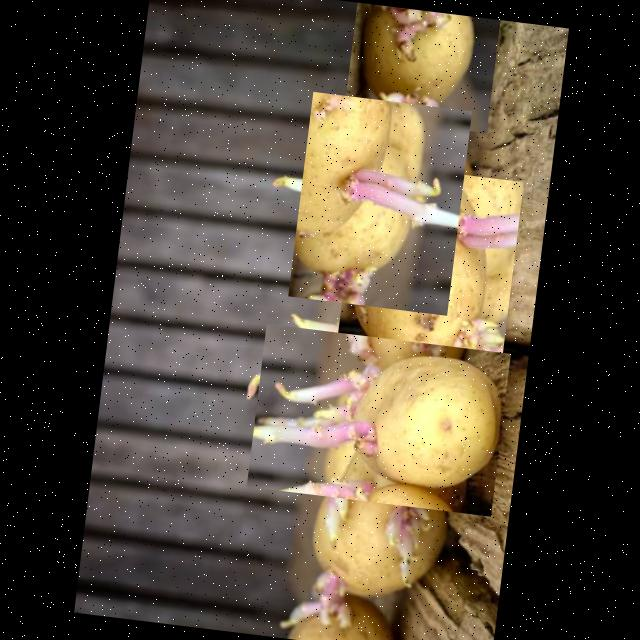Sprouted potato: (246, 323, 510, 516), (286, 92, 470, 316), (250, 413, 458, 610), (336, 162, 522, 360), (342, 2, 499, 133)
